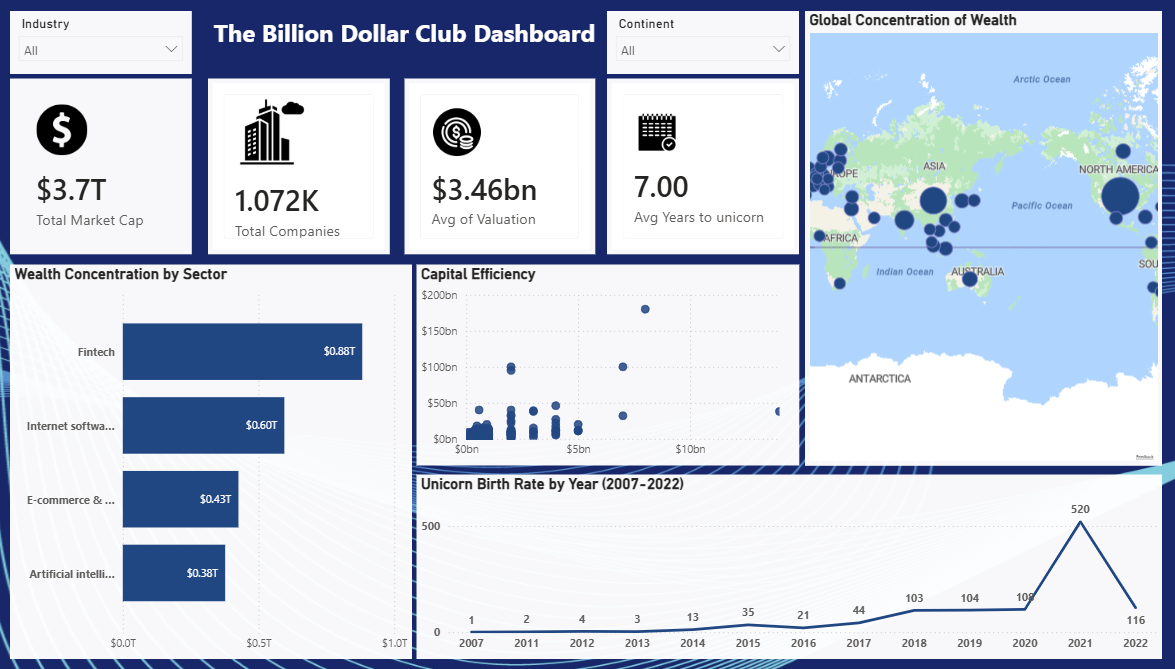

The dashboard page shown, as its layout file describes it:
{"tool":"powerbi","page":{"name":"Page 1","canvas":[1280,720],"ordinal":0},"visuals":[{"type":"textbox","box":[0,0,876.7,108.3],"z":0},{"type":"cardVisual","fields":{"Data":["Sum(Unicorn_Companies.Valuation)"]},"box":[0,75,201.7,195],"z":1000},{"type":"cardVisual","fields":{"Data":["Count(Unicorn_Companies.Company)"]},"box":[220,75,201.7,195],"z":2000},{"type":"cardVisual","fields":{"Data":["Avg(Unicorn_Companies.Valuation)"]},"box":[438.3,75,211.7,195],"z":3000},{"type":"lineChart","fields":{"Y":["CountNonNull(Unicorn_Companies.Company)"],"Category":["DimDate_Table.Year"]},"box":[451.7,515,828.3,205],"z":4000},{"type":"clusteredBarChart","fields":{"Category":["Unicorn_Companies.Industry"],"Y":["Sum(Unicorn_Companies.Valuation)"]},"box":[0,281.7,446.7,438.3],"z":5000},{"type":"azureMap","title":"Global Concentration of Wealth","fields":{"Category":["Unicorn_Companies.Country"],"Size":["Sum(Unicorn_Companies.Valuation)"]},"box":[883.3,0,396.7,505],"z":6000},{"type":"slicer","fields":{"Values":["Unicorn_Companies.Continent"]},"box":[663.3,0,213.3,70],"z":7000},{"type":"slicer","fields":{"Values":["Unicorn_Companies.Industry"]},"box":[0,0,201.7,70],"z":8000},{"type":"scatterChart","title":"Capital Efficiency","fields":{"Category":["Unicorn_Companies.Company"],"X":["Sum(Unicorn_Companies.funding)"],"Y":["Sum(Unicorn_Companies.Valuation)"]},"box":[451.7,281.7,425,223.3],"z":9000},{"type":"cardVisual","fields":{"Data":["Avg(Unicorn_Companies.Years to Unicorn)"]},"box":[663.3,75,213.3,195],"z":10000}]}

Visuals, with their boxes in screenshot pixels (x1, y1, x2, y2), scaled from the page's 1280x720 canvas onto the 1175x669 screenshot:
textbox: rect(0, 0, 805, 101)
cardVisual - Sum(Unicorn_Companies.Valuation): rect(0, 70, 185, 251)
cardVisual - Count(Unicorn_Companies.Company): rect(202, 70, 387, 251)
cardVisual - Avg(Unicorn_Companies.Valuation): rect(402, 70, 597, 251)
lineChart - CountNonNull(Unicorn_Companies.Company) x DimDate_Table.Year: rect(415, 479, 1174, 668)
clusteredBarChart - Unicorn_Companies.Industry x Sum(Unicorn_Companies.Valuation): rect(0, 262, 410, 668)
"Global Concentration of Wealth" azureMap: rect(811, 0, 1174, 469)
slicer - Unicorn_Companies.Continent: rect(609, 0, 805, 65)
slicer - Unicorn_Companies.Industry: rect(0, 0, 185, 65)
"Capital Efficiency" scatterChart: rect(415, 262, 805, 469)
cardVisual - Avg(Unicorn_Companies.Years to Unicorn): rect(609, 70, 805, 251)
